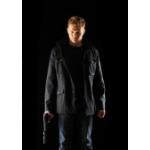Pistol: (41, 110, 55, 144)
